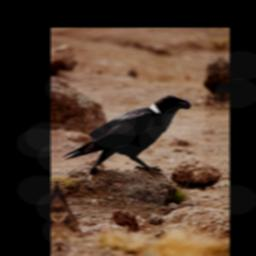Crow: (60, 92, 196, 184)
